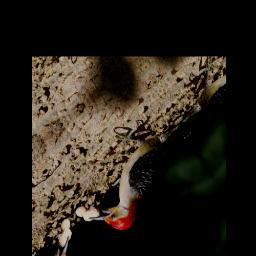Woodpecker: (61, 87, 203, 247)
